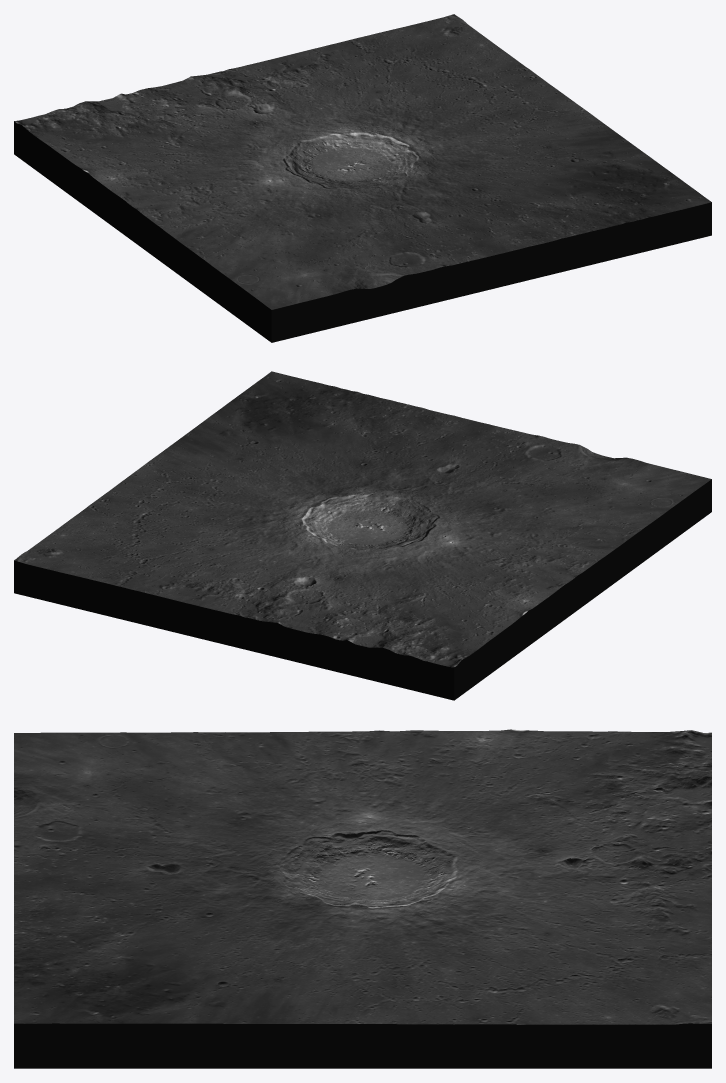
The model's file is moon3d.gltf.
3 renders of one model, top to bottom at view 1: azimuth 30°, elevation 25°; view 2: azimuth 150°, elevation 25°; view 3: azimuth 270°, elevation 25°, orthographic. The views are drawn at different scales.
Visible parts, largest first — view 1: Copernicus_LP_2_0, Copernicus_LP_Material #64_0; view 2: Copernicus_LP_2_0, Copernicus_LP_Material #64_0; view 3: Copernicus_LP_2_0, Copernicus_LP_Material #64_0.
Part boxes in pixels (x1,y1,x2,y2): Copernicus_LP_2_0: (14,14,711,309); Copernicus_LP_Material #64_0: (14,121,711,342); Copernicus_LP_2_0: (14,371,711,667); Copernicus_LP_Material #64_0: (14,479,711,700); Copernicus_LP_2_0: (14,729,711,1024); Copernicus_LP_Material #64_0: (14,1023,711,1068).
Size of the model in its own units: 1316485 by 104115 by 1334721.
2 materials, 1 textured.
